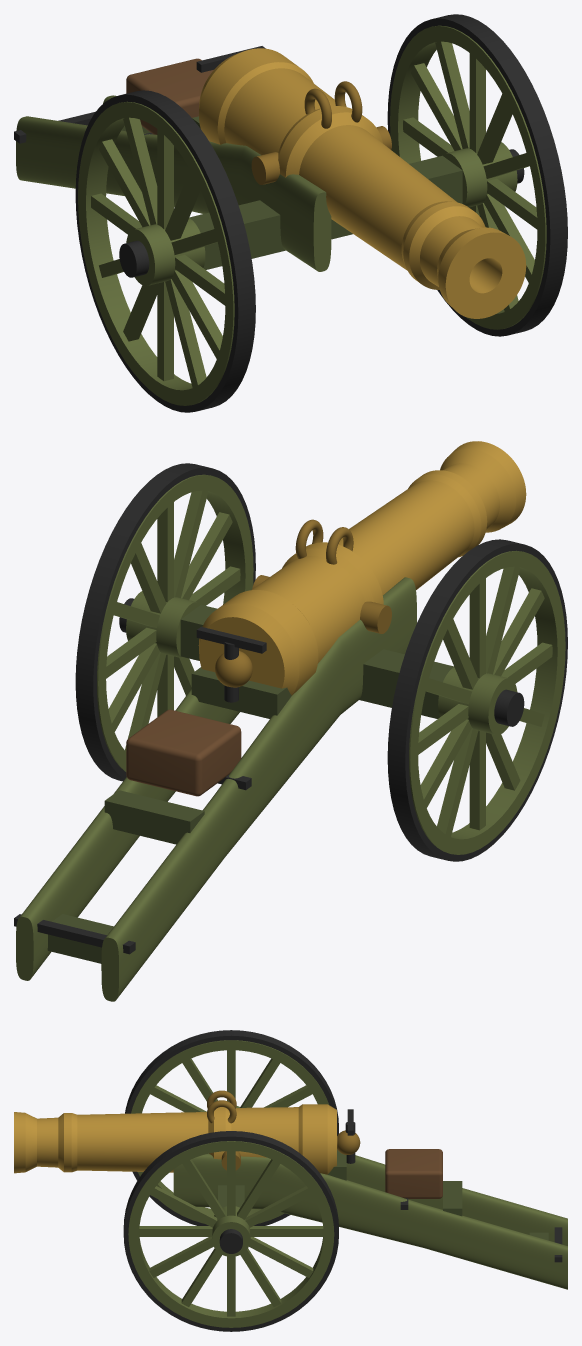
Rendered from cannon.glb.
3 views of the same model, one above another, from view 1: azimuth 30°, elevation 25°; view 2: azimuth 150°, elevation 25°; view 3: azimuth 270°, elevation 25° (orthographic). The views are drawn at different scales.
Parts seen in each view (by area): view 1: Barrel, Cheek_L, Felloe_L, Tyre_L, Tyre_R, Felloe_R, Axle, AmmoBox, Hub_L, Hub_R, Spoke_L_2, Spoke_R_2 (+21 smaller); view 2: Barrel, Cheek_L, Felloe_L, Tyre_L, Cheek_R, Tyre_R, AmmoBox, Felloe_R, Axle, Transom_1, Transom_0, Hub_L (+26 smaller); view 3: Cheek_R, Barrel, Felloe_R, Tyre_R, Cheek_L, Tyre_L, Felloe_L, AmmoBox, Hub_R, Spoke_R_1, Spoke_R_5, Spoke_R_0 (+18 smaller).
Boxes of the visible parts, x1=… form: Barrel: x1=198, y1=48, x2=526, y2=318; Cheek_L: x1=16, y1=116, x2=331, y2=271; Felloe_L: x1=78, y1=101, x2=234, y2=405; Tyre_L: x1=75, y1=90, x2=255, y2=412; Tyre_R: x1=387, y1=14, x2=567, y2=336; Felloe_R: x1=390, y1=25, x2=546, y2=329; Axle: x1=189, y1=155, x2=462, y2=269; AmmoBox: x1=126, y1=58, x2=213, y2=134; Hub_L: x1=126, y1=218, x2=205, y2=285; Hub_R: x1=442, y1=142, x2=517, y2=207; Spoke_L_2: x1=123, y1=117, x2=157, y2=224; Spoke_R_2: x1=435, y1=41, x2=469, y2=148; Barrel: x1=198, y1=441, x2=526, y2=695; Cheek_L: x1=101, y1=577, x2=416, y2=1001; Felloe_L: x1=409, y1=550, x2=565, y2=854; Tyre_L: x1=387, y1=539, x2=567, y2=861; Cheek_R: x1=16, y1=689, x2=239, y2=980; Tyre_R: x1=75, y1=463, x2=255, y2=781; AmmoBox: x1=126, y1=709, x2=241, y2=796; Felloe_R: x1=97, y1=474, x2=253, y2=771; Axle: x1=180, y1=604, x2=454, y2=718; Transom_1: x1=104, y1=790, x2=204, y2=844; Transom_0: x1=191, y1=667, x2=291, y2=718; Hub_L: x1=438, y1=667, x2=517, y2=734; Cheek_R: x1=173, y1=1153, x2=567, y2=1289; Barrel: x1=14, y1=1104, x2=336, y2=1174; Felloe_R: x1=128, y1=1141, x2=334, y2=1327; Tyre_R: x1=123, y1=1131, x2=338, y2=1331; Cheek_L: x1=346, y1=1155, x2=567, y2=1245; Tyre_L: x1=125, y1=1030, x2=338, y2=1225; Felloe_L: x1=131, y1=1040, x2=328, y2=1223; AmmoBox: x1=385, y1=1149, x2=442, y2=1198; Hub_R: x1=212, y1=1206, x2=250, y2=1256; Spoke_R_1: x1=245, y1=1186, x2=312, y2=1227; Spoke_R_5: x1=150, y1=1186, x2=217, y2=1227; Spoke_R_0: x1=250, y1=1226, x2=323, y2=1236.
Bounding box in the file's own units: 1.54 × 1.12 × 2.88.
